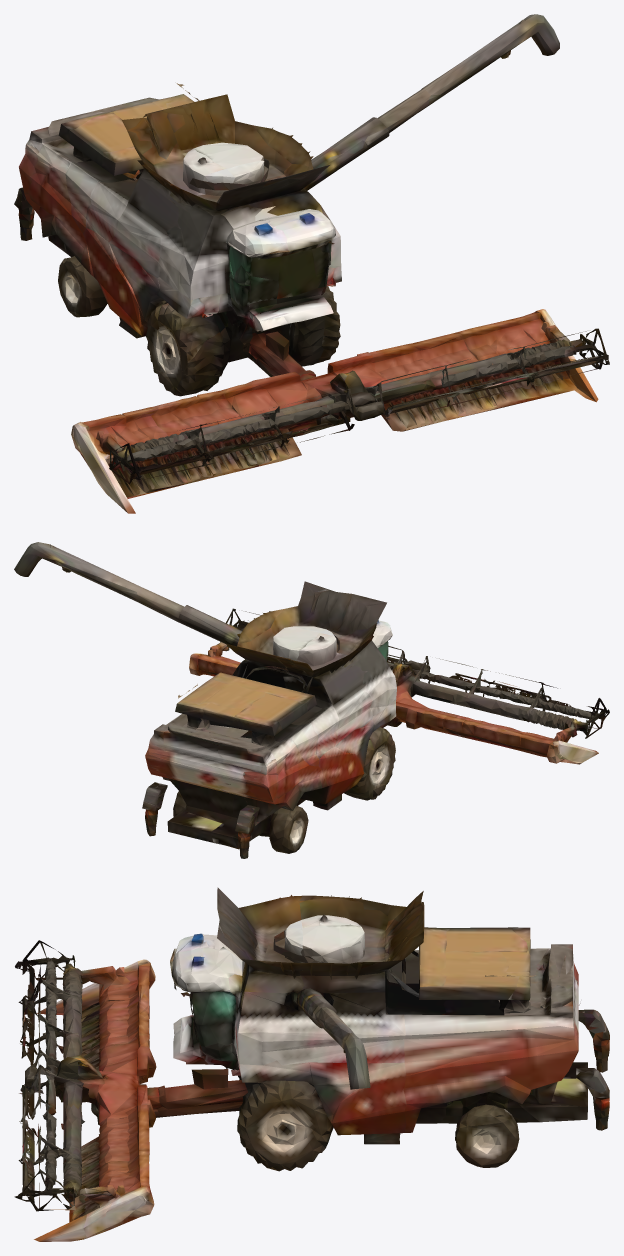
The model's file is technology-05.glb.
3 renders of one model, top to bottom at view 1: azimuth 30°, elevation 25°; view 2: azimuth 150°, elevation 25°; view 3: azimuth 270°, elevation 25°, orthographic. The views are drawn at different scales.
Visible parts, largest first — view 1: tmp904525ds.obj; view 2: tmp904525ds.obj; view 3: tmp904525ds.obj.
Part boxes in pixels (<box>): tmp904525ds.obj: <box>14,14,609,513</box>; tmp904525ds.obj: <box>14,542,609,858</box>; tmp904525ds.obj: <box>14,887,609,1241</box>.
Size of the model in its own units: 1.59 by 0.6578 by 1.37.
1 material, 1 textured.
